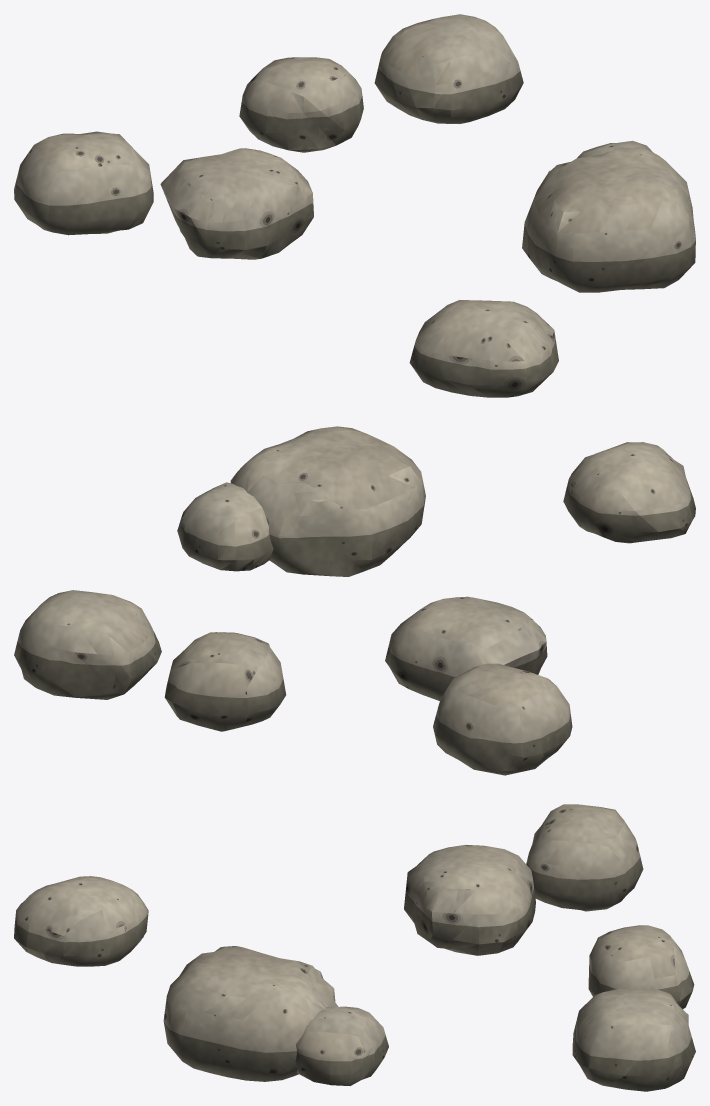
3 renders of one model, top to bottom at view 1: azimuth 30°, elevation 25°; view 2: azimuth 150°, elevation 25°; view 3: azimuth 270°, elevation 25°, orthographic. The views are drawn at different scales.
Visible parts, largest first — view 1: rock, rock_wet; view 2: rock, rock_wet; view 3: rock, rock_wet.
Part boxes in pixels (<box>): rock: <box>17,14,695,369</box>; rock_wet: <box>14,69,695,397</box>; rock: <box>17,426,690,743</box>; rock_wet: <box>14,486,695,775</box>; rock: <box>15,804,691,1061</box>; rock_wet: <box>14,857,695,1091</box>.
Bounding box in the file's own units: 2.1 × 0.3947 × 2.58.
2 materials, 2 textured.
